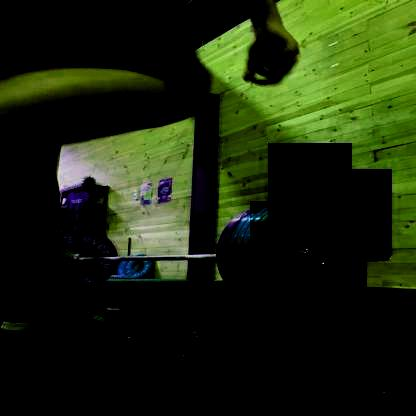barbell: (250, 202, 367, 315)
